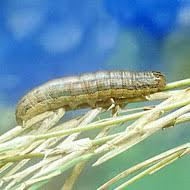fallarmy_worm: (10, 67, 175, 129)
